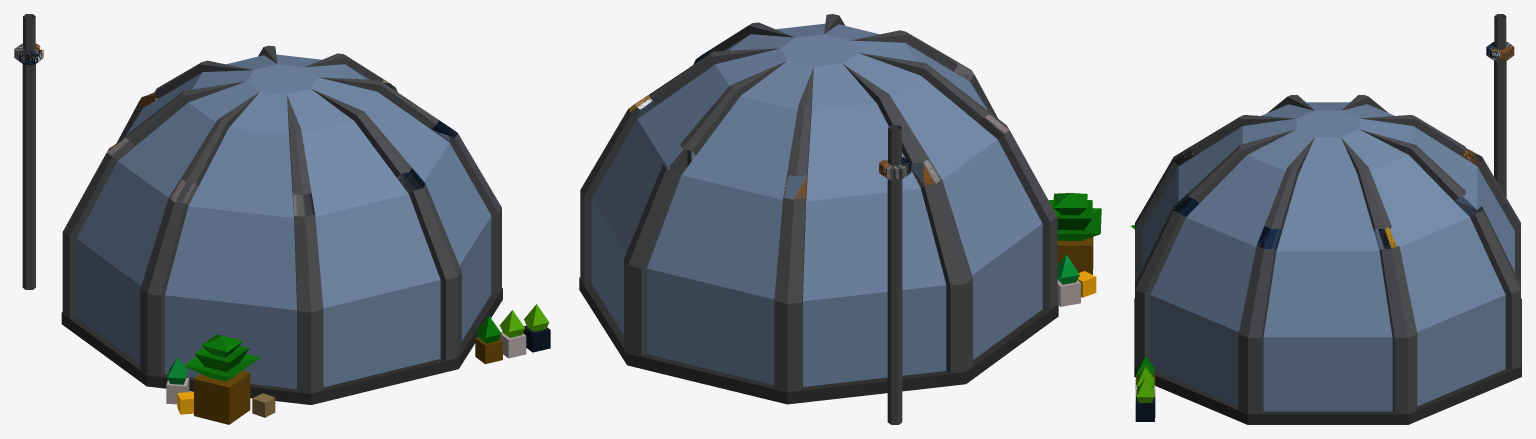
Rendered from GreenHouse.fbx.
The picture shows the model from 3 angles, left to right: view 1: azimuth 30°, elevation 25°; view 2: azimuth 150°, elevation 25°; view 3: azimuth 270°, elevation 25°; orthographic projection. The views are drawn at different scales.
Parts seen in each view (by area): view 1: glass, basement, glow; view 2: glass, basement, glow; view 3: glass, basement, glow.
Part boxes in pixels (x1,y1,x2,y2): glass: (76,54,491,388); basement: (22,14,550,424); glow: (14,43,457,217); glass: (591,23,1042,386); basement: (579,14,1101,424); glow: (628,48,1009,200); glass: (1141,102,1514,411); basement: (1130,14,1521,424); glow: (1173,42,1514,250).
Bounding box in the file's own units: 396 × 288 × 399.
